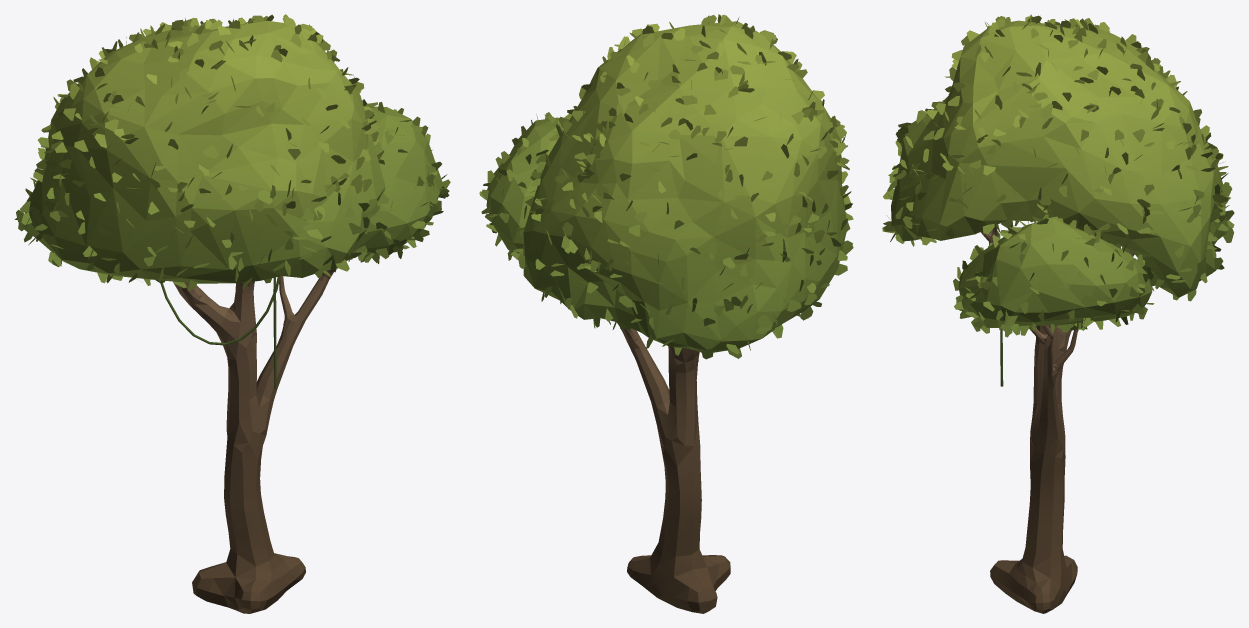
File: Tree_04.fbx
3 renders of one model, left to right at view 1: azimuth 30°, elevation 25°; view 2: azimuth 150°, elevation 25°; view 3: azimuth 270°, elevation 25°, orthographic. The views are drawn at different scales.
Visible parts, largest first — view 1: Tree_04_LOD0; view 2: Tree_04_LOD0; view 3: Tree_04_LOD0.
Part boxes in pixels (<box>): Tree_04_LOD0: <box>14,14,450,613</box>; Tree_04_LOD0: <box>479,14,853,613</box>; Tree_04_LOD0: <box>882,14,1234,613</box>.
Size of what is drawn, in the model's own units: 4.66 by 7.34 by 4.14.
